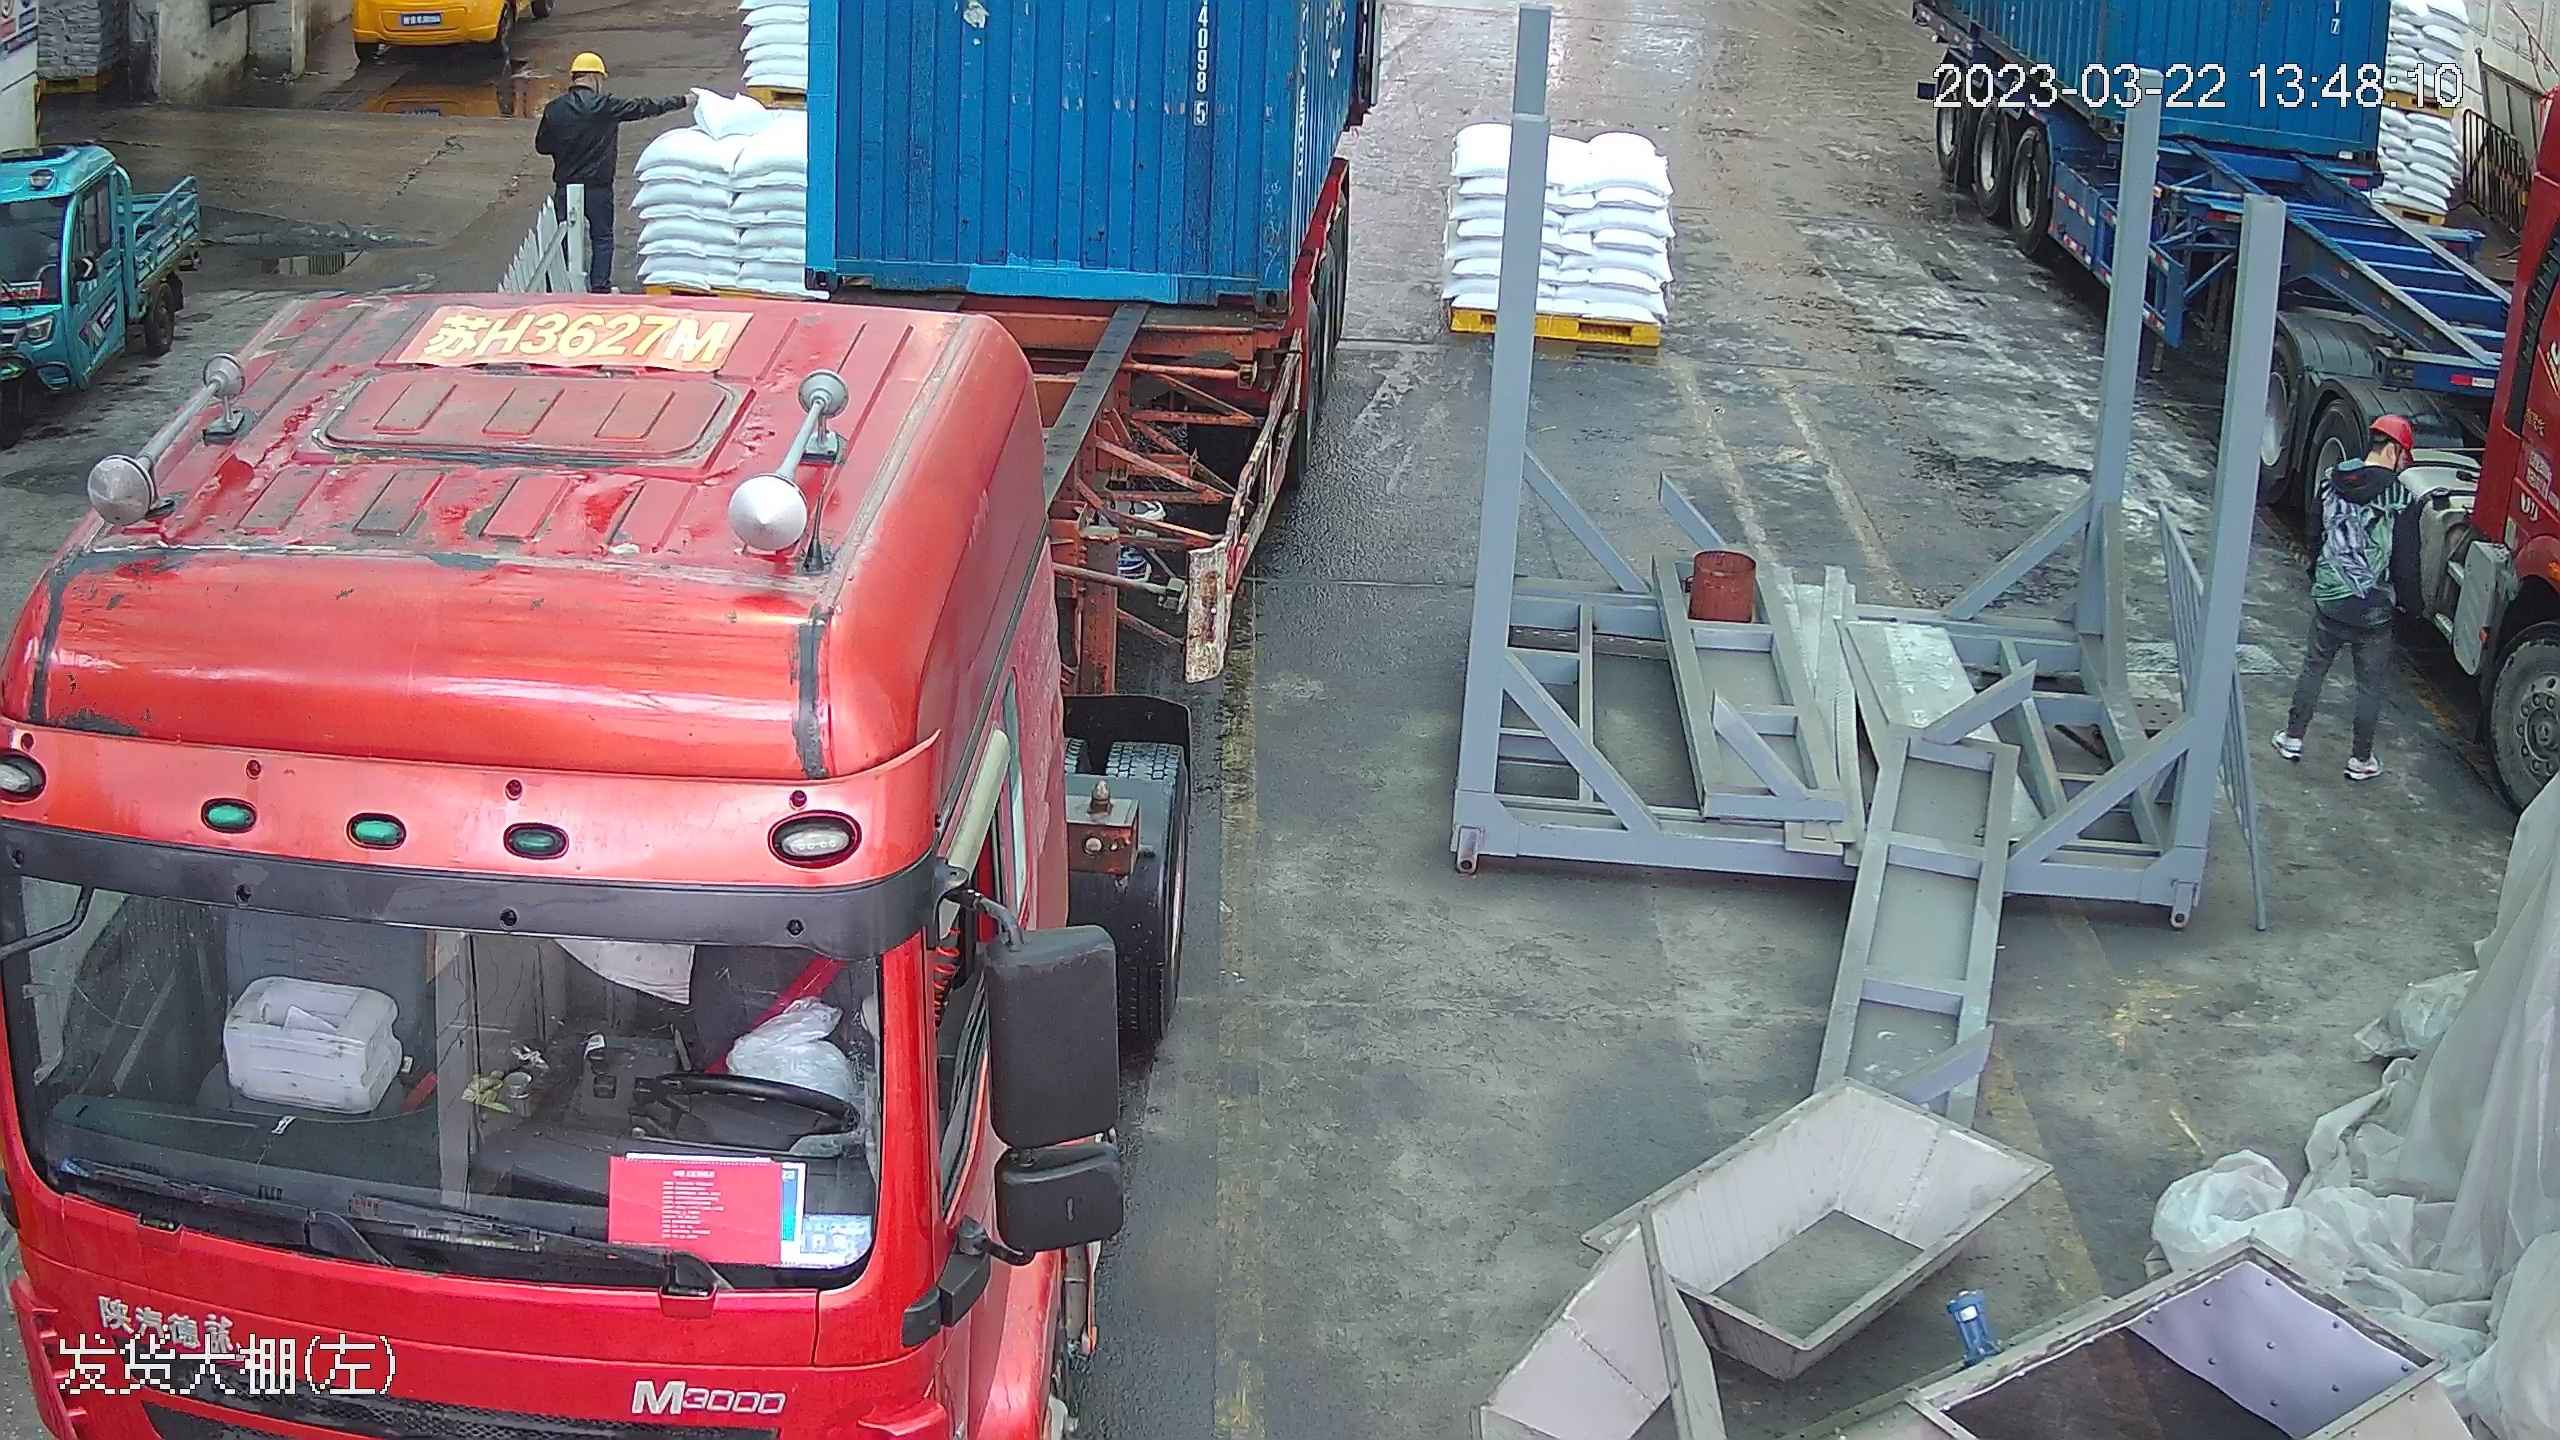head: (2330, 413, 2420, 547), (543, 50, 617, 129)
helmet: (2363, 414, 2413, 461), (564, 47, 609, 77)
people: (2270, 412, 2429, 789), (529, 45, 626, 290)
truck: (0, 72, 1273, 1440)
